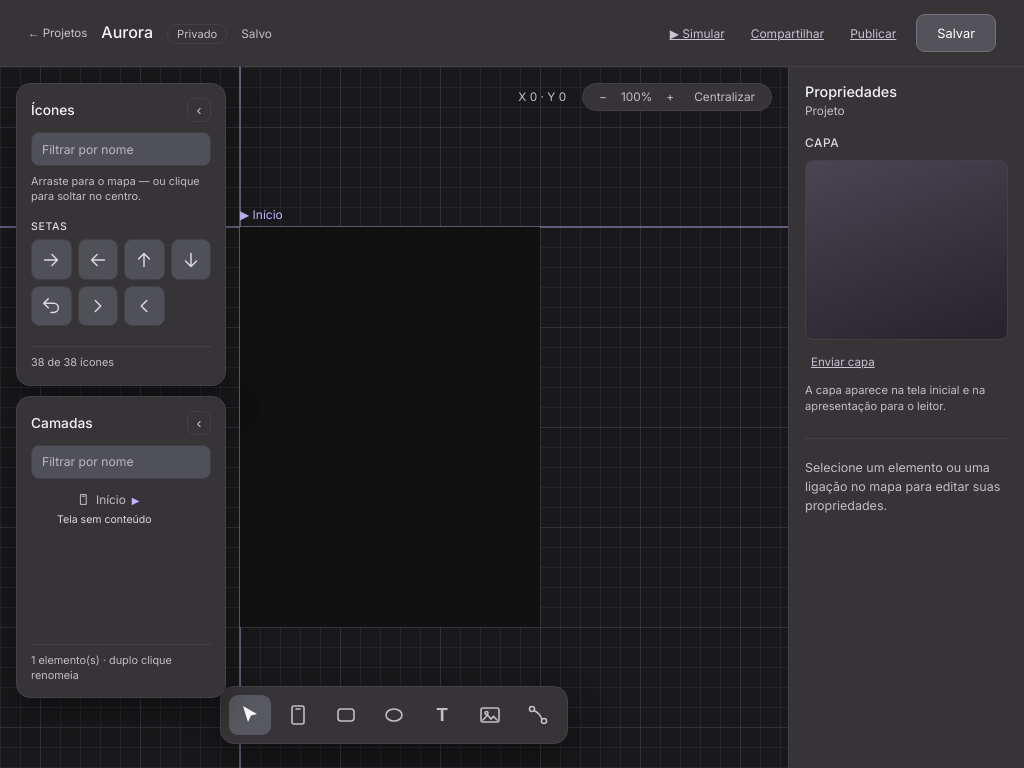
it: canvas: dono, colaborador e visualização › o dono vê Compartilhar e abre o diálogo
Click the button "Compartilhar": (787, 33) left=745, top=24, right=830, bottom=42
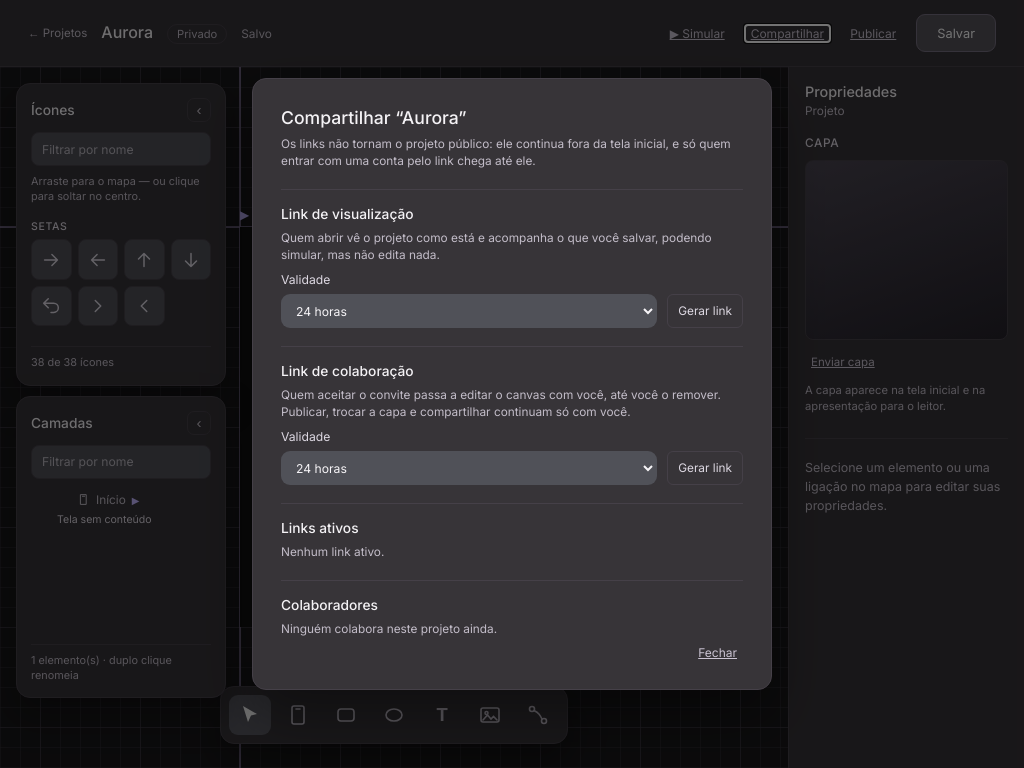
Expected: the button "Publicar" is shown, left=844, top=24, right=902, bottom=42
Expected: the dialog named "Compartilhar projeto" is shown
